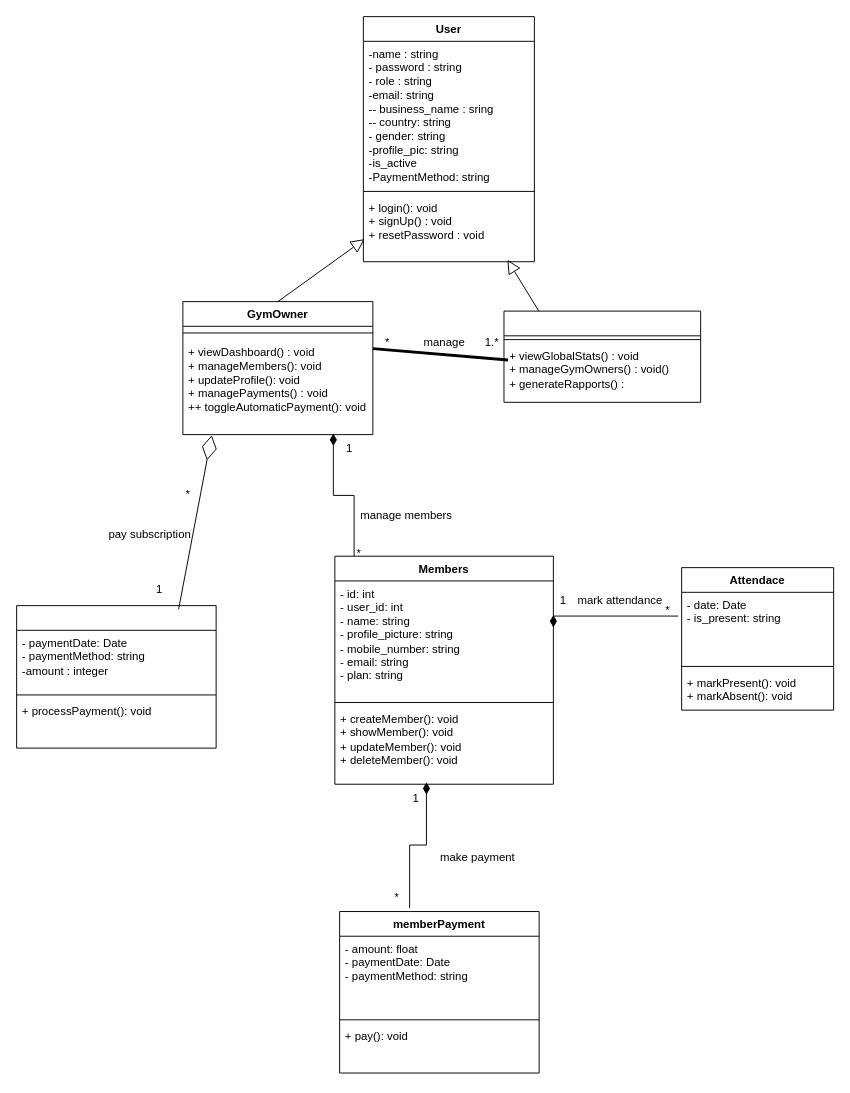
This 850x1093 diagram has some shape labels left out. The shapes that lost their labels are listed below. From the top down, each one's box as (x1, y1, x2, y2) in pixels, then its label:
(503, 310, 701, 402): Admin
(16, 605, 216, 748): platformPayment
